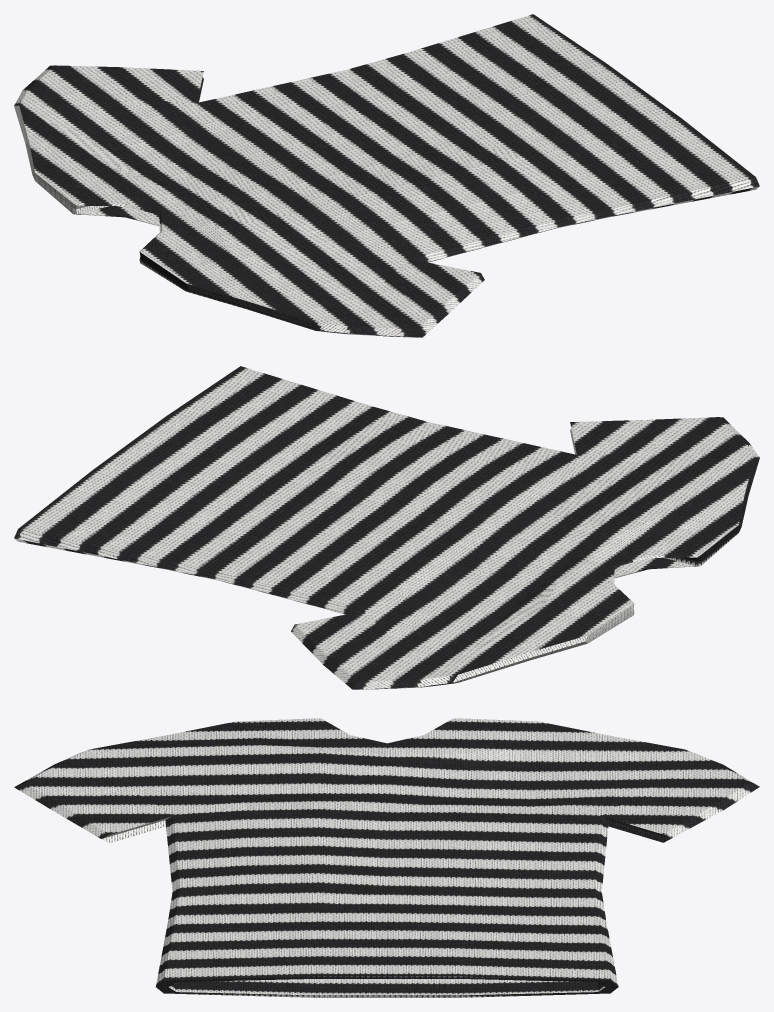
File: camiseta1.fbx
The picture shows the model from 3 angles, top to bottom: view 1: azimuth 30°, elevation 25°; view 2: azimuth 150°, elevation 25°; view 3: azimuth 270°, elevation 25°; orthographic projection.
Visible parts, largest first — view 1: shirt1:Mesh; view 2: shirt1:Mesh; view 3: shirt1:Mesh.
Boxes of the visible parts, x1,y1,x2,y2 form: shirt1:Mesh: (14, 14, 759, 337); shirt1:Mesh: (14, 366, 759, 689); shirt1:Mesh: (14, 718, 759, 997).
Bounding box in the file's own units: 2.79 × 0.1059 × 3.34.
Materials: 1 (1 with a texture image).
